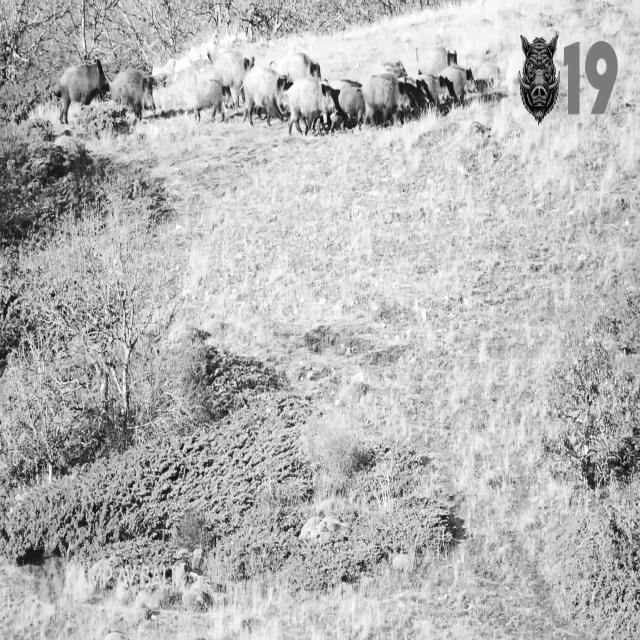boar: (325, 47, 506, 127), (518, 33, 560, 122), (59, 58, 109, 122), (288, 76, 336, 134), (243, 65, 283, 124), (213, 52, 254, 108), (110, 68, 155, 117), (276, 51, 322, 81), (195, 78, 224, 121)
